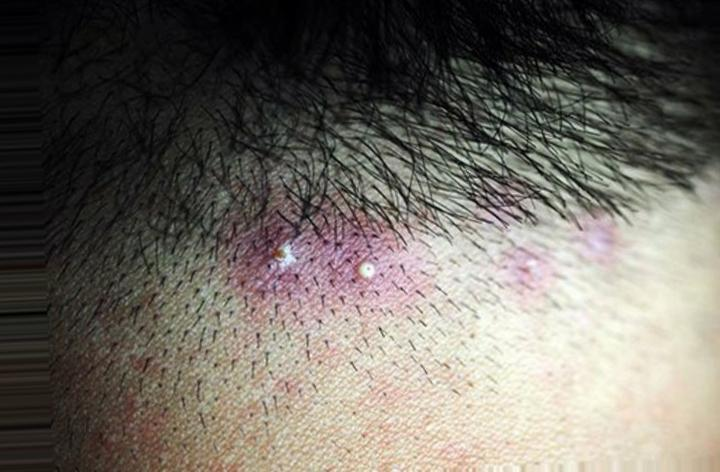Folliculitis: (260, 204, 384, 309)
